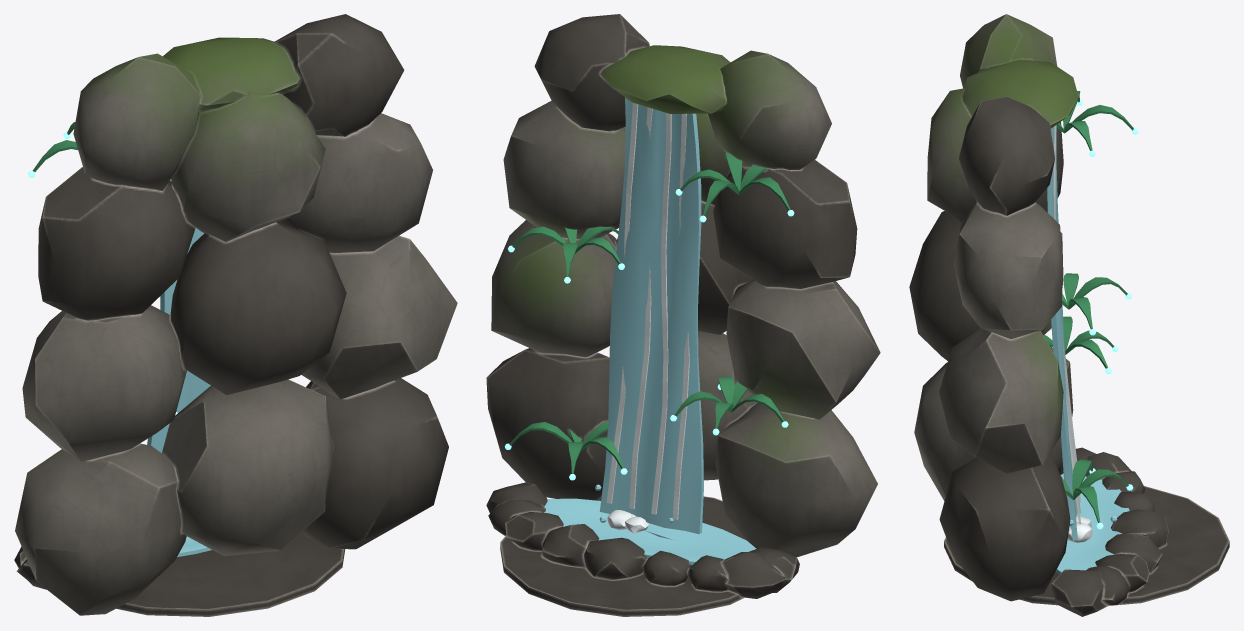
File: cascada_pequena.fbx
3 views of the same model, side by side, from view 1: azimuth 30°, elevation 25°; view 2: azimuth 150°, elevation 25°; view 3: azimuth 270°, elevation 25° (orthographic). The views are drawn at different scales.
Visible parts, largest first — view 1: cascada_pequena, cascada_pequena_agua_cristal; view 2: cascada_pequena, cascada_pequena_agua_cristal; view 3: cascada_pequena, cascada_pequena_agua_cristal.
Part boxes in pixels (x1=…): cascada_pequena: x1=14, y1=14, x2=457, y2=616; cascada_pequena_agua_cristal: x1=147, y1=179, x2=211, y2=556; cascada_pequena: x1=486, y1=14, x2=880, y2=616; cascada_pequena_agua_cristal: x1=544, y1=97, x2=756, y2=564; cascada_pequena: x1=909, y1=14, x2=1229, y2=616; cascada_pequena_agua_cristal: x1=1047, y1=125, x2=1129, y2=573.
Bounding box in the file's own units: 4.88 × 6.15 × 3.59.
Materials: 3 (1 with a texture image).
